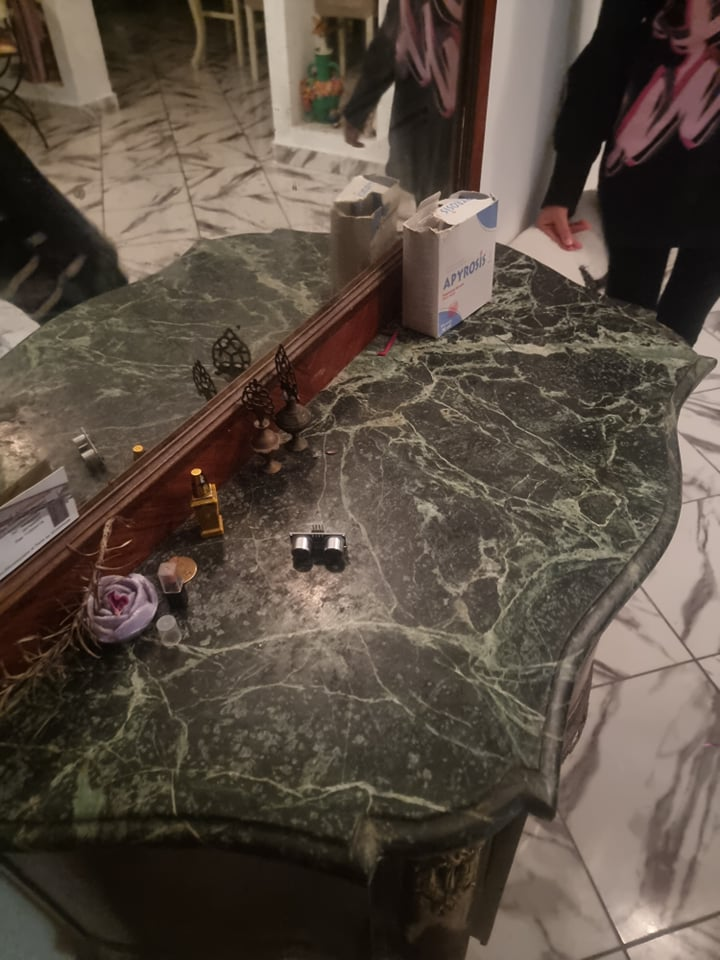SENSOR: (288, 527, 352, 560)
